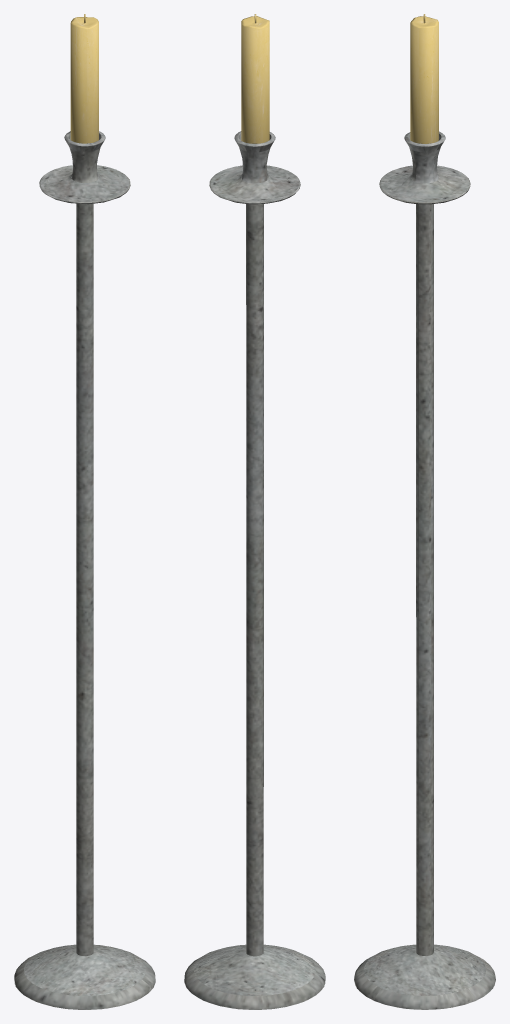
The model's file is candlestand.glb.
3 views of the same model, side by side, from view 1: azimuth 30°, elevation 25°; view 2: azimuth 150°, elevation 25°; view 3: azimuth 270°, elevation 25° (orthographic).
Visible parts, largest first — view 1: Candlestick Floor_Iron_0; view 2: Candlestick Floor_Iron_0; view 3: Candlestick Floor_Iron_0.
Part boxes in pixels (x1,y1,x2,y2): Candlestick Floor_Iron_0: [14, 14, 155, 1009]; Candlestick Floor_Iron_0: [184, 14, 325, 1009]; Candlestick Floor_Iron_0: [354, 14, 495, 1009].
Bounding box in the file's own units: 0.0612 × 0.4598 × 0.0612.
Materials: 2 (2 with a texture image).
